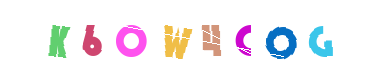4: (156, 0, 236, 80)
6: (51, 0, 131, 80)
C: (203, 0, 283, 80)
G: (276, 0, 356, 80)
K: (17, 0, 97, 80)
O: (96, 0, 176, 80), (241, 0, 321, 80)
W: (149, 0, 229, 80)
